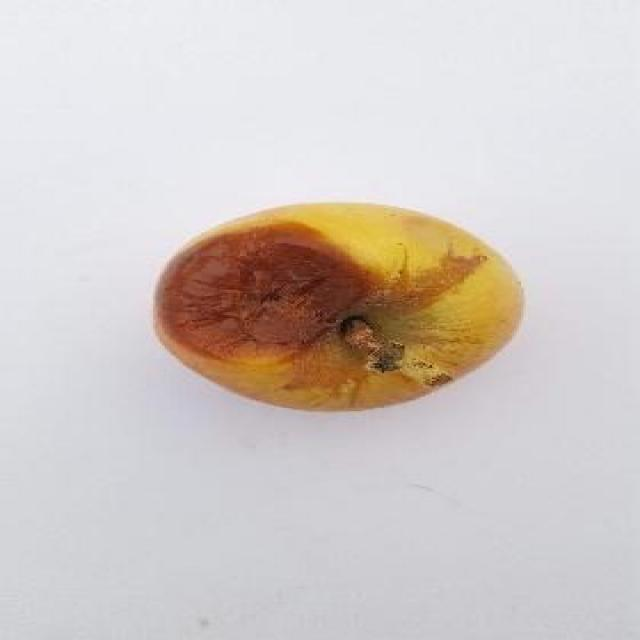Rotten: (148, 196, 529, 415)
